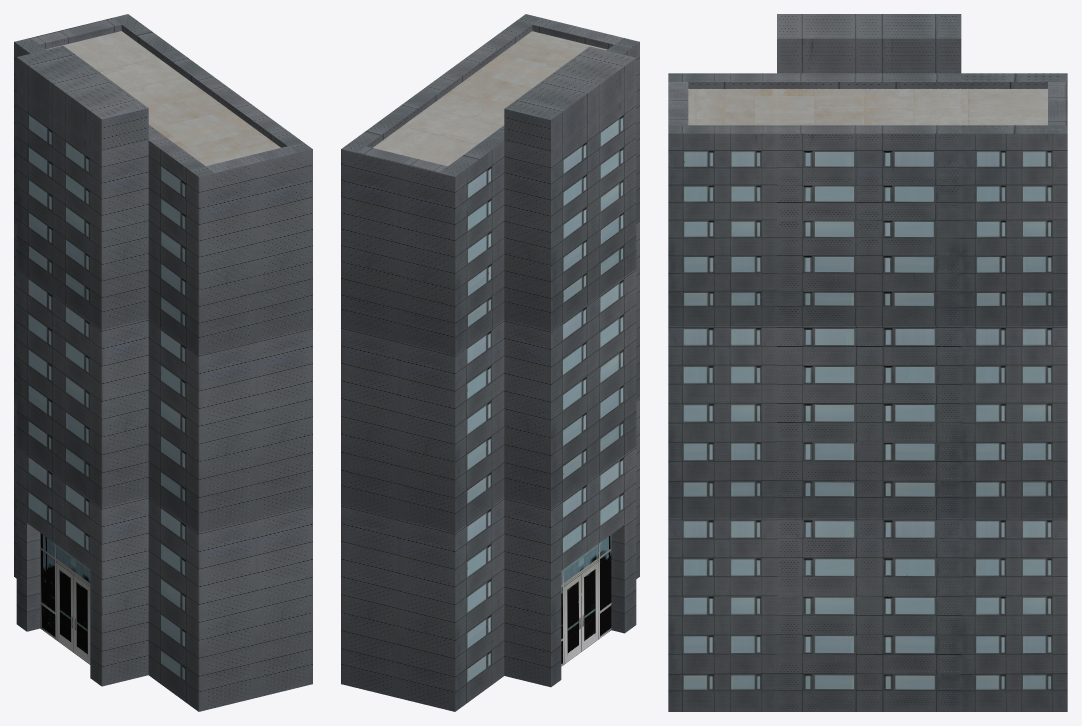
Rendered from house25.FBX.
The picture shows the model from 3 angles, left to right: view 1: azimuth 30°, elevation 25°; view 2: azimuth 150°, elevation 25°; view 3: azimuth 270°, elevation 25°; orthographic projection. The views are drawn at different scales.
Visible parts, largest first — view 1: Box001; view 2: Box001; view 3: Box001.
Part boxes in pixels (x1=…): Box001: x1=14, y1=14, x2=312, y2=711; Box001: x1=341, y1=14, x2=639, y2=711; Box001: x1=668, y1=14, x2=1067, y2=711.
Bounding box in the file's own units: 75.19 × 253 × 150.
